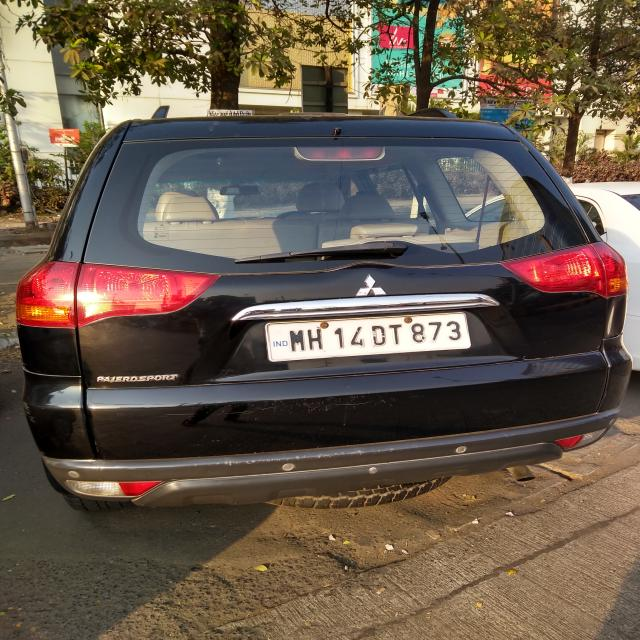Number-Plate: (262, 316, 473, 356)
